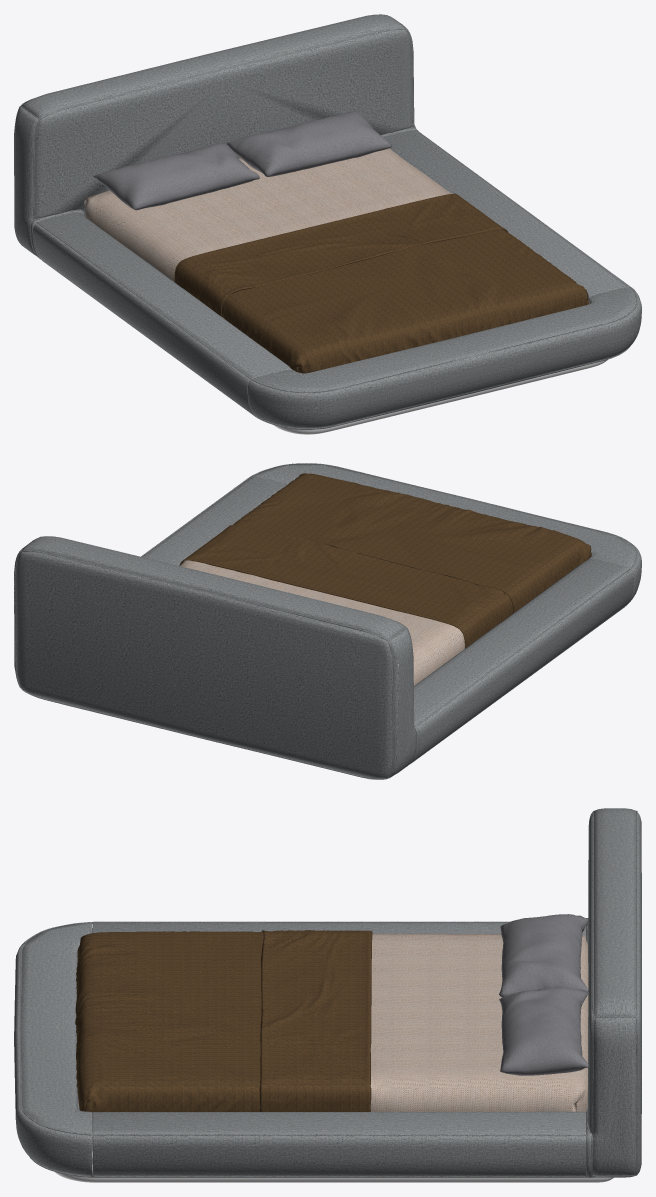
File: floss-bed.glb
3 views of the same model, one above another, from view 1: azimuth 30°, elevation 25°; view 2: azimuth 150°, elevation 25°; view 3: azimuth 270°, elevation 25° (orthographic). The views are drawn at different scales.
Parts seen in each view (by area): view 1: bed.001, blanket, bed, mattres, pillow.002, pillow.001, piping, wood frame; view 2: bed.001, bed, blanket, mattres, piping; view 3: bed, blanket, mattres, bed.001, pillow.002, pillow.001, piping, wood frame.
Part boxes in pixels (x1,y1,x2,y2): bed.001: (14,54,474,429); blanket: (174,193,588,373); bed: (207,14,641,394); mattres: (84,148,451,281); pillow.002: (226,111,392,176); pillow.001: (93,143,259,210); piping: (15,22,637,429); wood frame: (273,359,607,434); bed.001: (202,499,641,778); bed: (14,463,472,738); blanket: (179,473,591,648); mattres: (180,560,464,685); piping: (14,463,637,779); bed: (14,903,641,1177); blanket: (75,930,372,1112); mattres: (370,933,588,1111); bed.001: (14,808,641,1036); pillow.002: (499,987,588,1075); pillow.001: (499,914,588,997); piping: (20,810,637,1177); wood frame: (54,1169,613,1182).
Bounding box in the file's own units: 2.08 × 0.8362 × 2.53.
6 materials, 5 textured.
